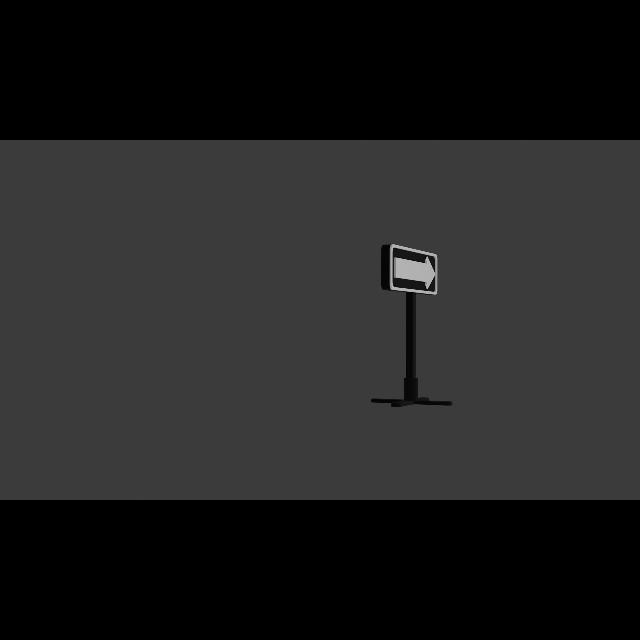sign_oneway_right: (384, 242, 442, 302)
